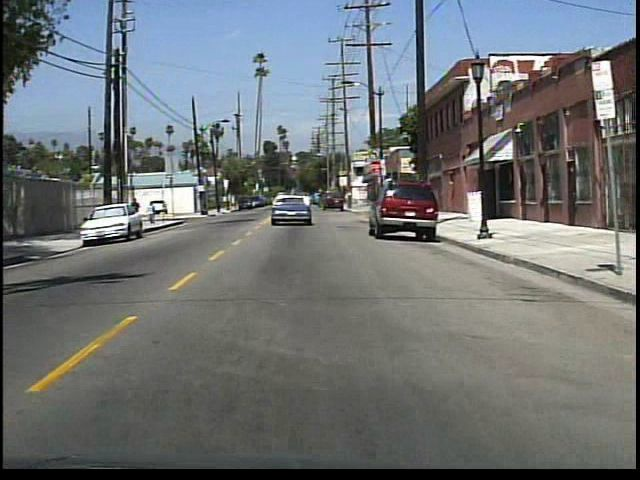person: (129, 195, 145, 228), (147, 199, 160, 226)
